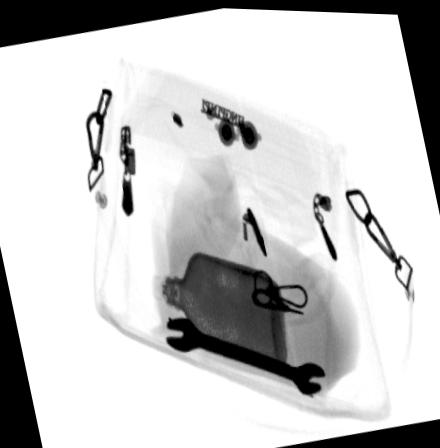Wrench: (162, 313, 329, 394)
